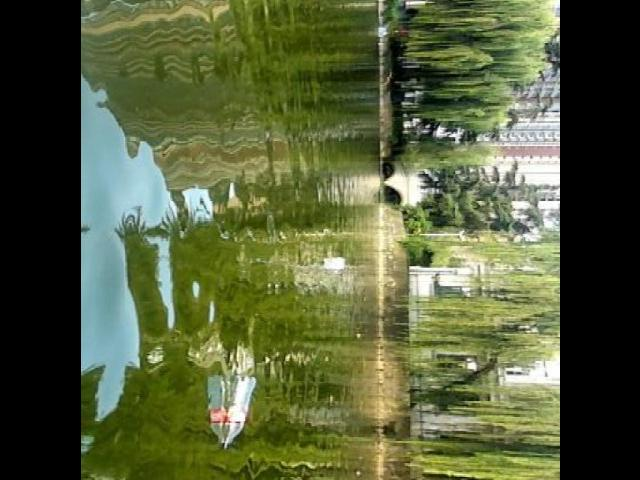Bottle: (210, 364, 258, 456)
